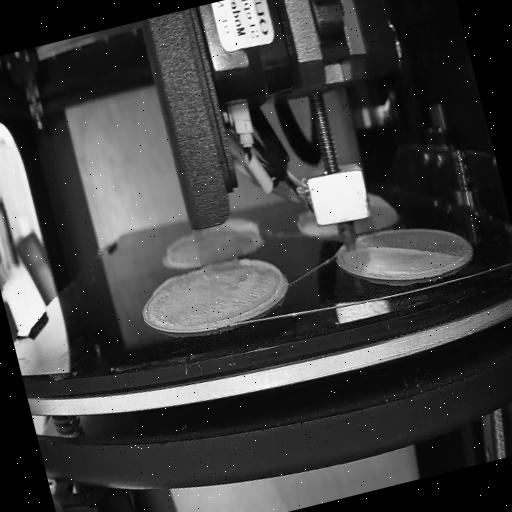over_extrusion: (192, 248, 292, 328), (364, 228, 434, 270), (221, 213, 265, 249), (149, 272, 189, 300), (162, 230, 196, 256)
